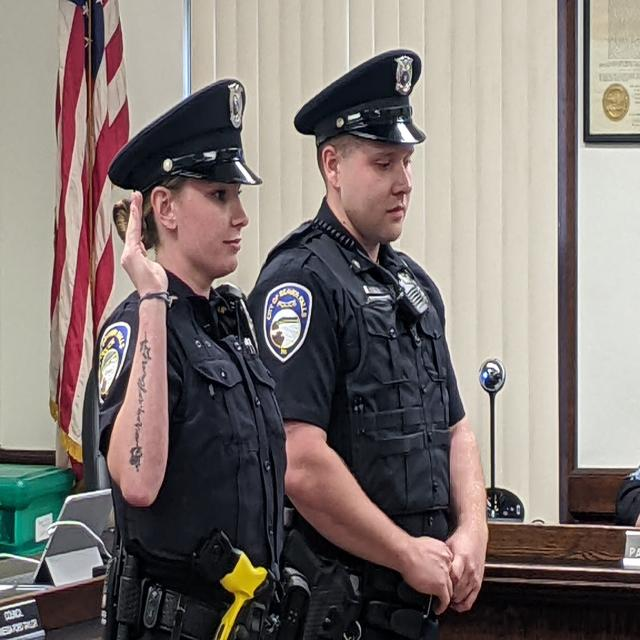police: (259, 43, 494, 640), (92, 74, 286, 640)
